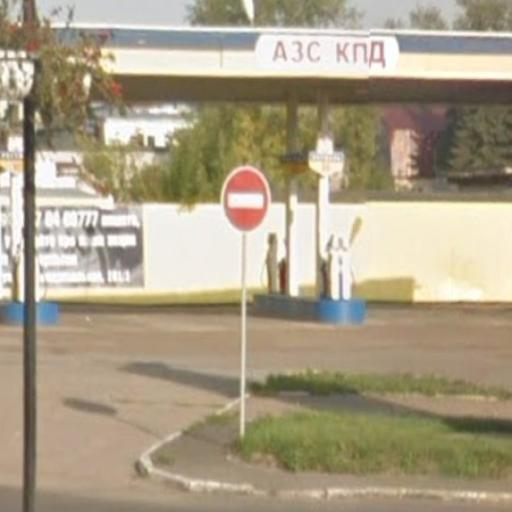traffic_sign: (217, 160, 274, 236)
